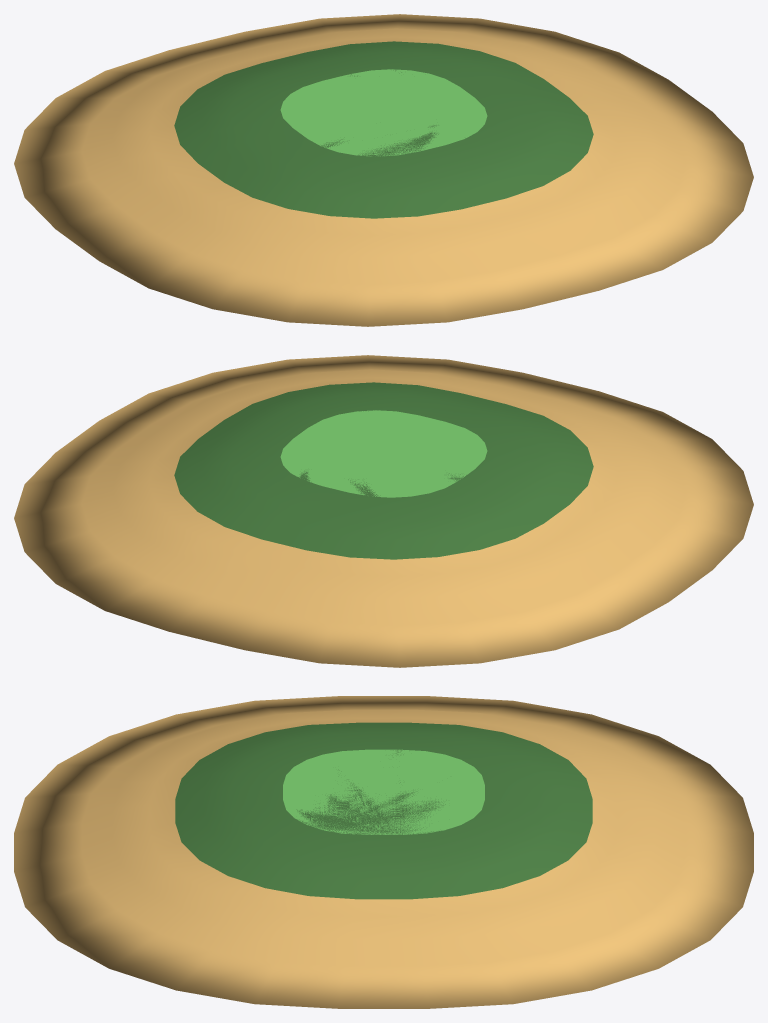
File: hub2.fbx
3 views of the same model, one above another, from view 1: azimuth 30°, elevation 25°; view 2: azimuth 150°, elevation 25°; view 3: azimuth 270°, elevation 25° (orthographic). The views are drawn at different scales.
Parts seen in each view (by area): view 1: island_smallHUB, island_smallHUB_grass; view 2: island_smallHUB, island_smallHUB_grass; view 3: island_smallHUB, island_smallHUB_grass.
Part boxes in pixels (left/top/right/bottom): island_smallHUB: left=14, top=14, right=753, bottom=326; island_smallHUB_grass: left=280, top=69, right=487, bottom=156; island_smallHUB: left=14, top=355, right=753, bottom=667; island_smallHUB_grass: left=280, top=410, right=487, bottom=497; island_smallHUB: left=14, top=696, right=753, bottom=1008; island_smallHUB_grass: left=283, top=749, right=484, bottom=834.
Size of what is drawn, in the model's own units: 428 by 38.38 by 428.
